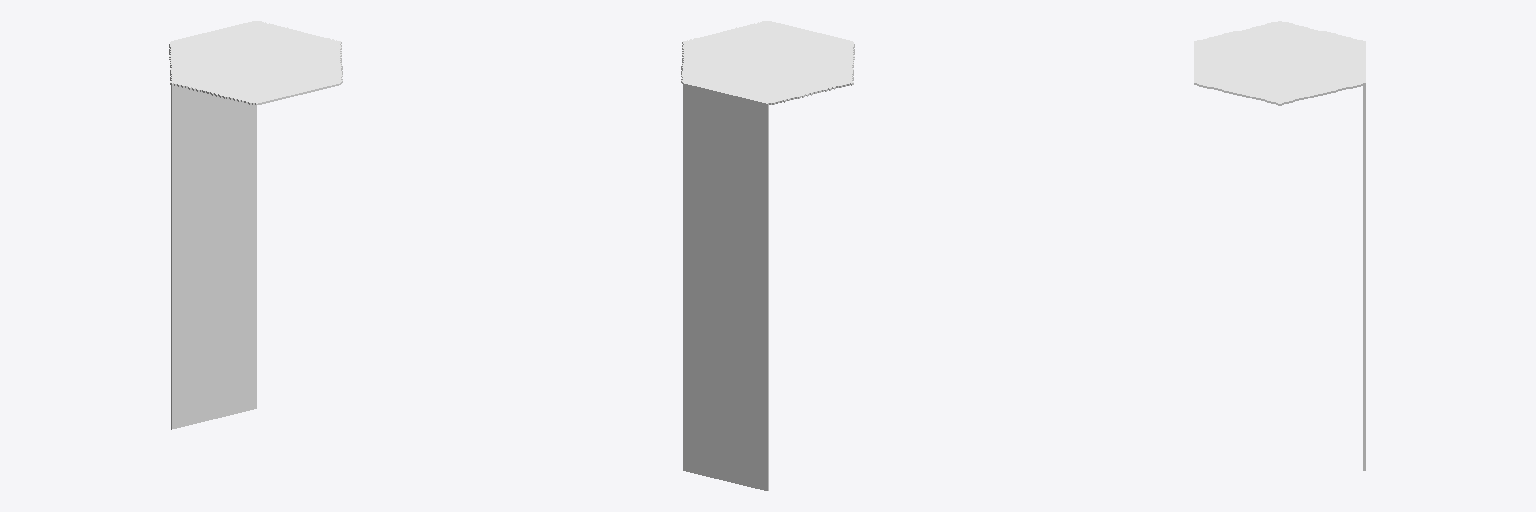
File: stena3_i.obj
3 renders of one model, left to right at view 1: azimuth 30°, elevation 25°; view 2: azimuth 150°, elevation 25°; view 3: azimuth 270°, elevation 25°, orthographic.
Visible parts, largest first — view 1: object 1; view 2: object 1; view 3: object 1.
Boxes of the visible parts, x1,y1,x2,y2 form: object 1: [169, 21, 342, 429]; object 1: [681, 21, 854, 490]; object 1: [1194, 21, 1365, 470].
Size of the model in its own units: 9.2 by 20 by 8.